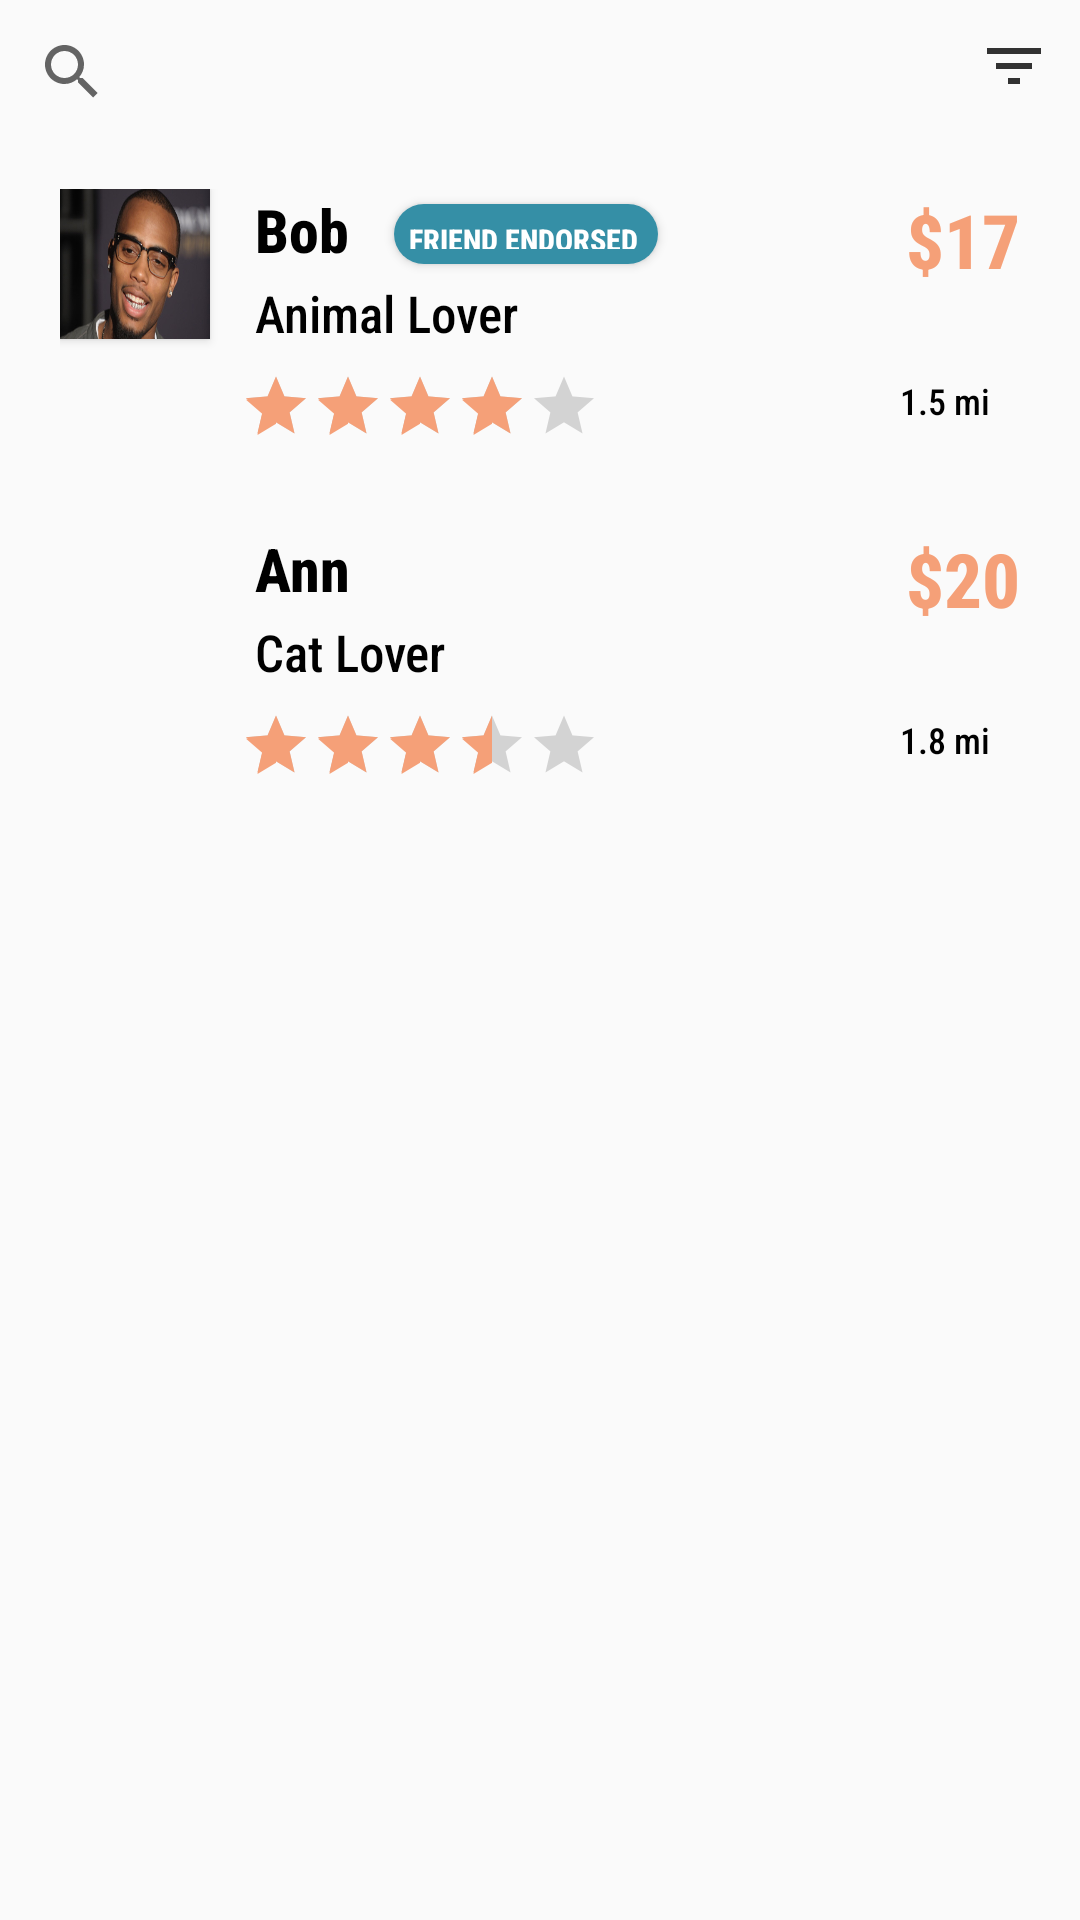

Named icons in this screenshot (1080*1920) and their centers, [x,y]:
filter: [1014,66]
